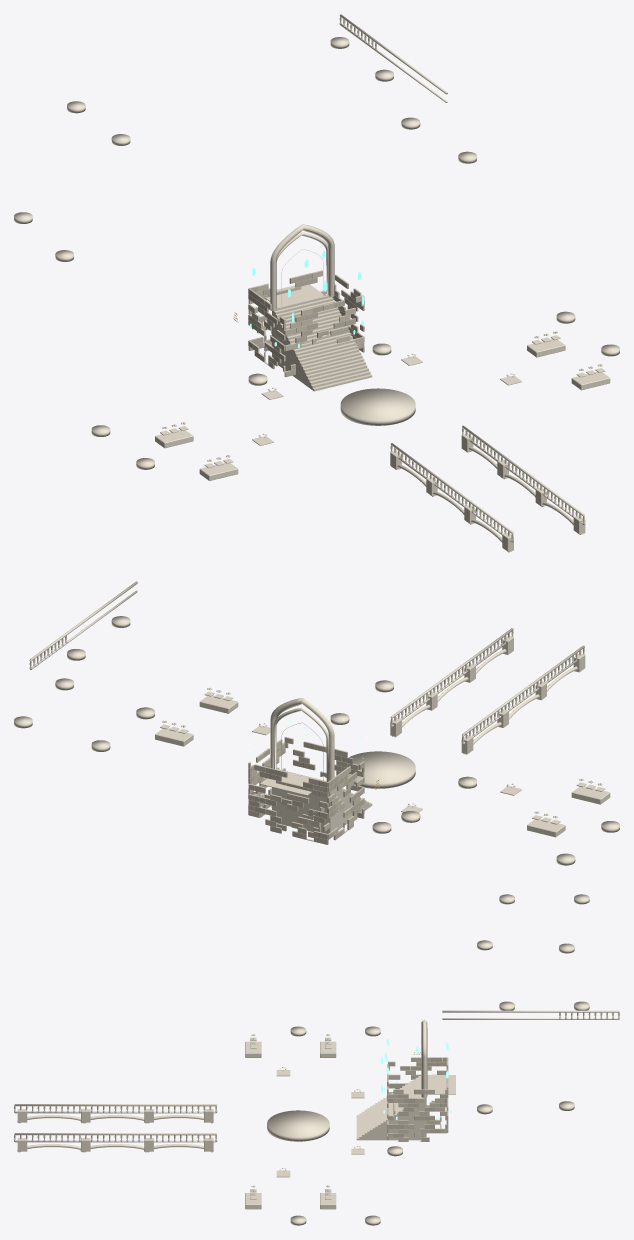
File: Catalog-11.glb
3 renders of one model, top to bottom at view 1: azimuth 30°, elevation 25°; view 2: azimuth 150°, elevation 25°; view 3: azimuth 270°, elevation 25°, orthographic. The views are drawn at different scales.
Visible parts, largest first — view 1: Pale Carved Stone, Limestone Block Tone 4 (×2), Limestone Block Tone 1; view 2: Pale Carved Stone, Limestone Block Tone 4 (×2), Limestone Block Tone 1 (×2), Limestone Block Tone 3; view 3: Pale Carved Stone, Limestone Block Tone 1, Limestone Block Tone 4.
Boxes of the visible parts, left/top/right/bottom form: Pale Carved Stone: left=14, top=14, right=619, bottom=552; Limestone Block Tone 4 (×2): left=248, top=270, right=364, bottom=371; Limestone Block Tone 1: left=248, top=273, right=364, bottom=377; Pale Carved Stone: left=14, top=581, right=619, bottom=865; Limestone Block Tone 4 (×2): left=248, top=736, right=364, bottom=841; Limestone Block Tone 1 (×2): left=248, top=741, right=364, bottom=844; Limestone Block Tone 3: left=264, top=794, right=329, bottom=837; Pale Carved Stone: left=14, top=894, right=619, bottom=1225; Limestone Block Tone 1: left=387, top=1057, right=448, bottom=1141; Limestone Block Tone 4: left=387, top=1057, right=448, bottom=1141.
Size of the model in its own units: 62.1 by 28.14 by 81.24.
